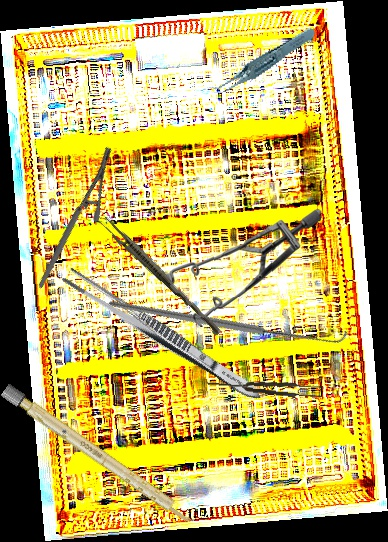Dressing Forceps: (56, 263, 268, 407)
Hook Surgical: (106, 202, 350, 436)
Needle Holder: (1, 144, 148, 289)
Scalpel Handle: (0, 383, 198, 528)
Speculum: (164, 206, 322, 330)
Tissue Forceps: (97, 215, 226, 337), (199, 26, 324, 97), (206, 375, 324, 400)
